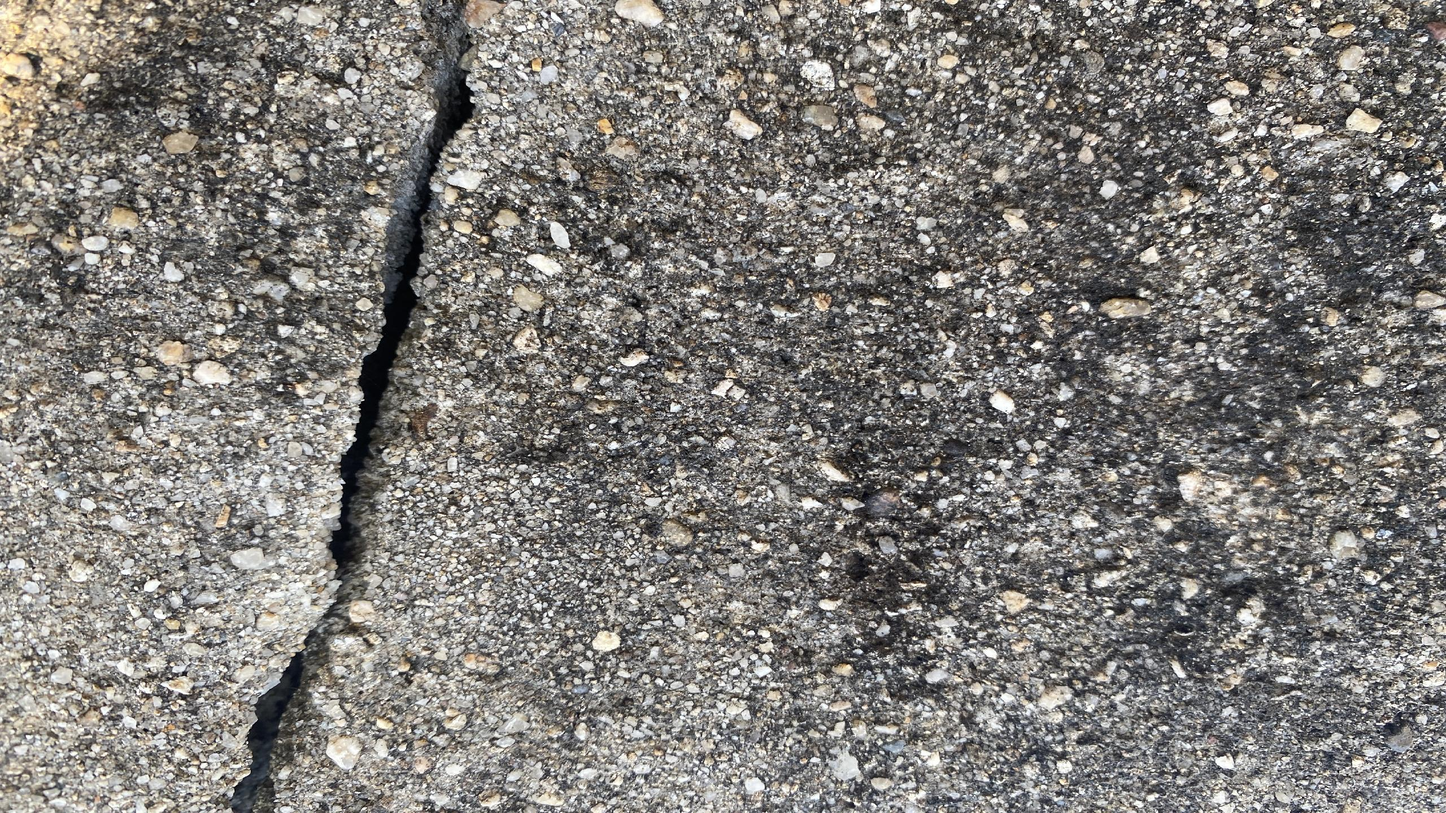crack: (232, 2, 497, 808)
